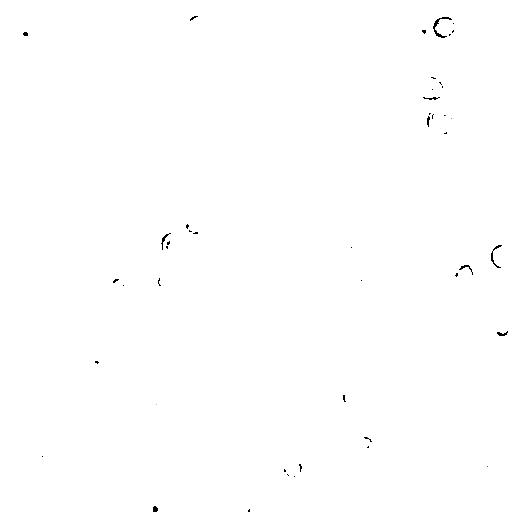micro-algae: (123, 36, 257, 168), (343, 301, 435, 390), (356, 46, 414, 105), (79, 253, 135, 303), (119, 411, 167, 462), (171, 423, 215, 466), (81, 1, 121, 42), (468, 448, 506, 479), (387, 284, 421, 317), (278, 432, 311, 465), (426, 104, 457, 137), (160, 231, 189, 263), (142, 237, 172, 265), (415, 75, 447, 101), (93, 53, 121, 82), (280, 292, 305, 320), (409, 16, 435, 42), (143, 392, 167, 419), (27, 162, 50, 190), (148, 169, 172, 195), (140, 491, 170, 511), (433, 16, 459, 39), (32, 436, 59, 457), (453, 263, 475, 288), (81, 473, 105, 495), (61, 129, 83, 151), (100, 491, 123, 512), (189, 52, 209, 76), (340, 275, 364, 295), (345, 242, 367, 262), (491, 245, 511, 267), (81, 359, 103, 379), (156, 271, 177, 291), (425, 261, 447, 279), (188, 12, 207, 32), (359, 257, 379, 276), (283, 460, 302, 479), (17, 25, 35, 45), (184, 218, 205, 235), (498, 215, 511, 242), (356, 434, 375, 451), (109, 277, 127, 294), (340, 388, 357, 406), (493, 319, 509, 337), (79, 235, 97, 248), (247, 502, 264, 512)
